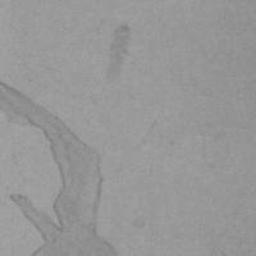Water spot: (0, 79, 123, 256), (101, 22, 134, 87)
